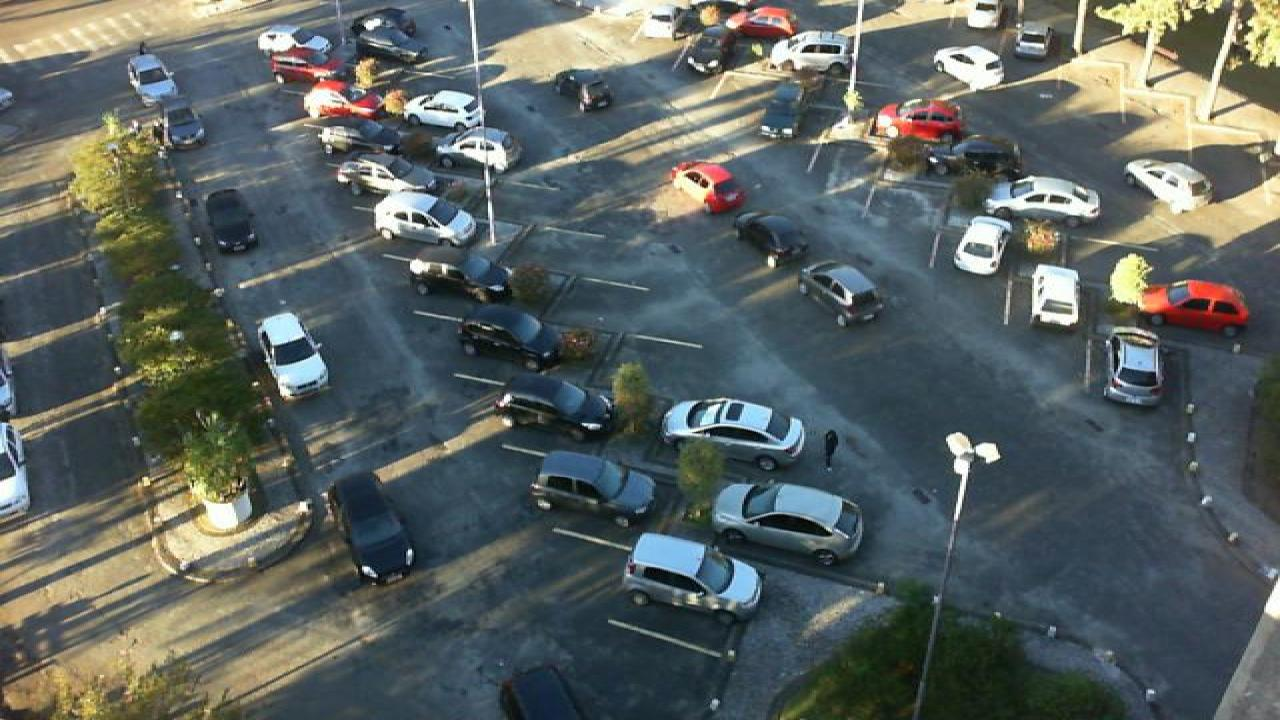Car: (708, 478, 864, 566), (620, 532, 764, 626), (658, 396, 808, 470), (326, 471, 420, 585), (528, 449, 660, 530), (492, 375, 616, 442), (454, 304, 570, 374), (256, 310, 334, 400), (1136, 278, 1254, 337), (370, 191, 484, 250), (982, 174, 1106, 226), (404, 250, 516, 305), (796, 260, 886, 327), (1100, 325, 1164, 408), (1124, 157, 1214, 213), (732, 212, 810, 270), (870, 98, 966, 144), (924, 135, 1024, 179), (332, 154, 436, 196), (432, 125, 524, 172), (670, 161, 748, 216), (200, 186, 262, 254), (400, 88, 486, 134), (312, 115, 406, 156), (300, 77, 386, 121), (952, 215, 1012, 277), (768, 30, 856, 72), (1028, 264, 1082, 328), (672, 22, 738, 74), (932, 44, 1004, 91), (266, 48, 346, 86), (552, 65, 614, 114), (758, 80, 810, 138), (256, 24, 336, 60), (124, 54, 180, 104), (720, 6, 800, 40), (352, 27, 426, 63), (160, 102, 208, 151), (354, 4, 414, 36), (638, 2, 690, 38), (1012, 19, 1052, 60), (964, 0, 1006, 32)
